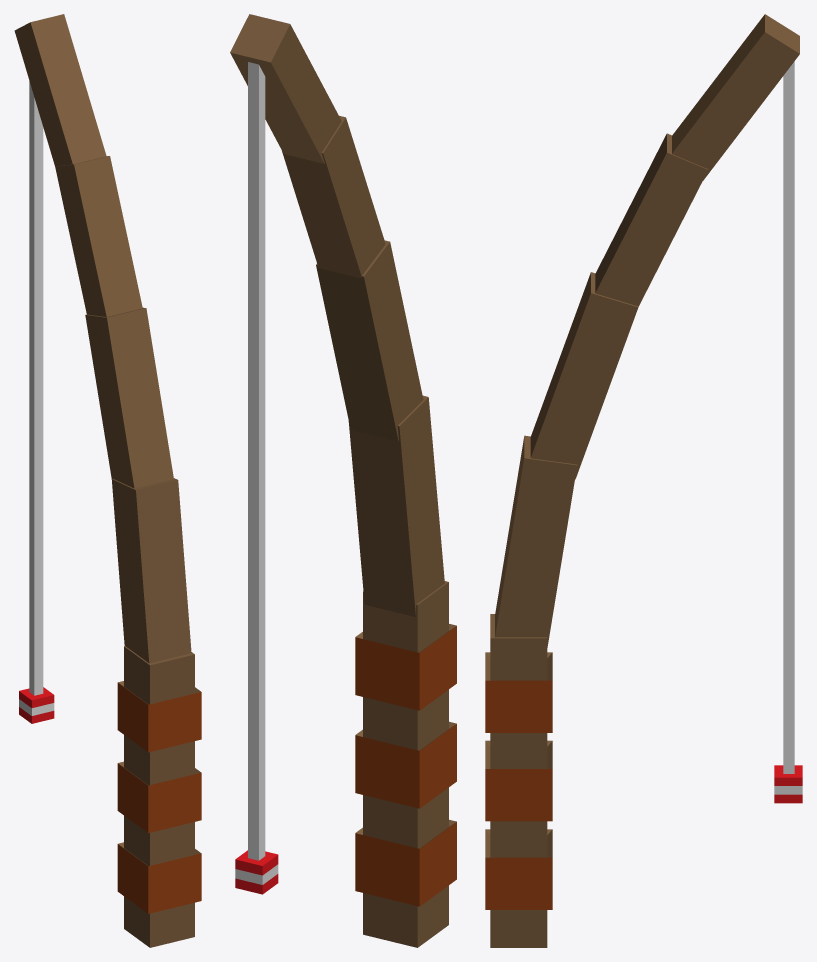
File: FishingRodanimation.fbx
3 views of the same model, side by side, from view 1: azimuth 30°, elevation 25°; view 2: azimuth 150°, elevation 25°; view 3: azimuth 270°, elevation 25° (orthographic). The views are drawn at different scales.
Visible parts, largest first — view 1: Cube.005; view 2: Cube.005; view 3: Cube.005.
Part boxes in pixels (<box>): Cube.005: <box>14,14,201,947</box>; Cube.005: <box>230,14,456,947</box>; Cube.005: <box>485,14,802,947</box>.
Size of the model in its own units: 118 by 1768 by 557.
